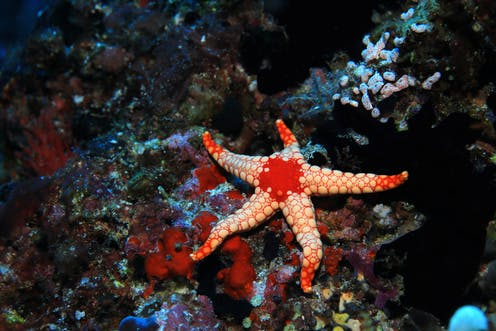starfish: (189, 111, 416, 285)
